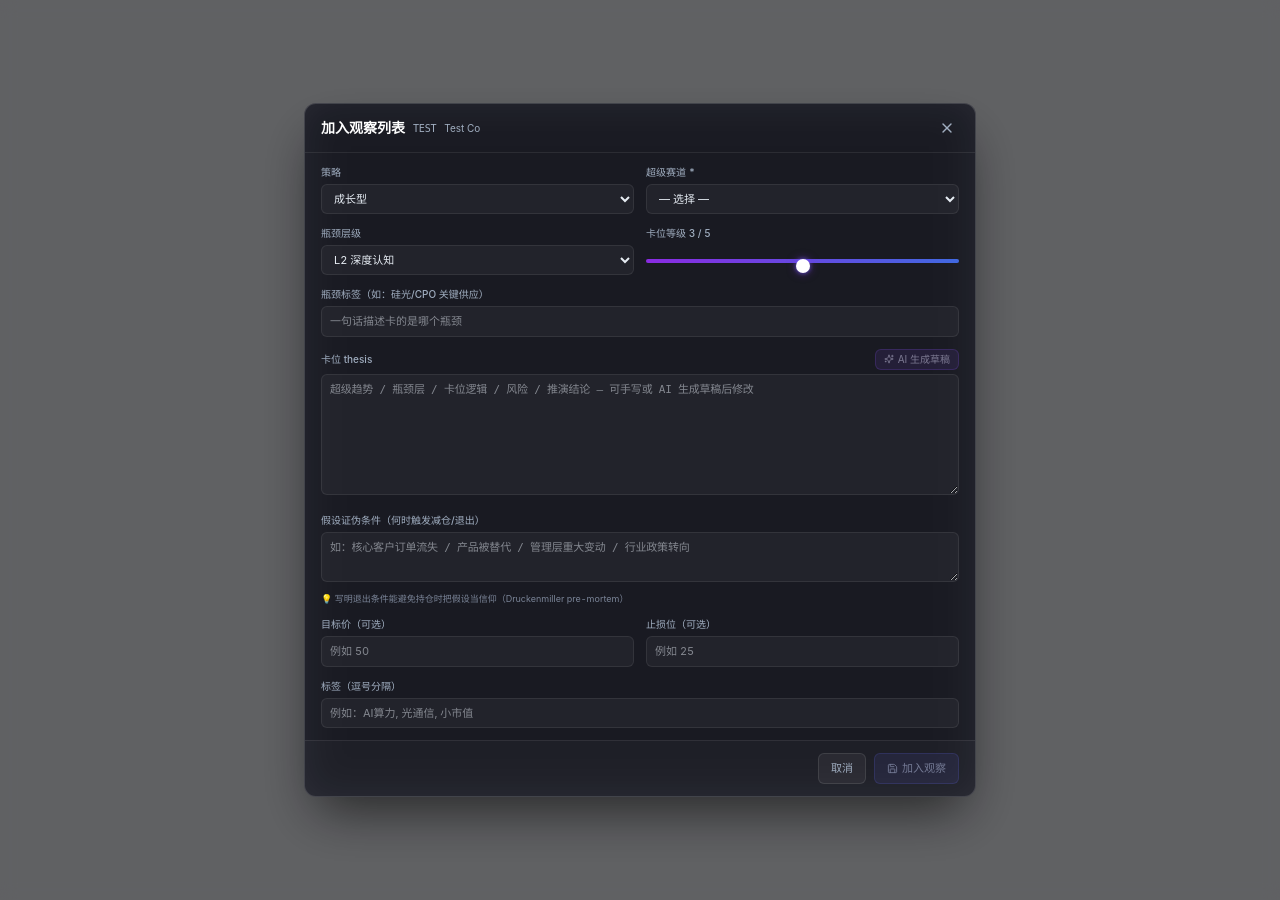
Test case: TenxItemEditor — strategy 字段标签切换 › strategy select 从 growth → value 切换时字段标签同步切换
The width and height of the screenshot is (1280, 900).
Expected: the text "瓶颈层级" is shown, [321, 226, 361, 241]
Expected: the text "估值点位" is not shown
Select "价值型" in the dropdown below "策略" at x=478, y=199, box [321, 184, 634, 214]
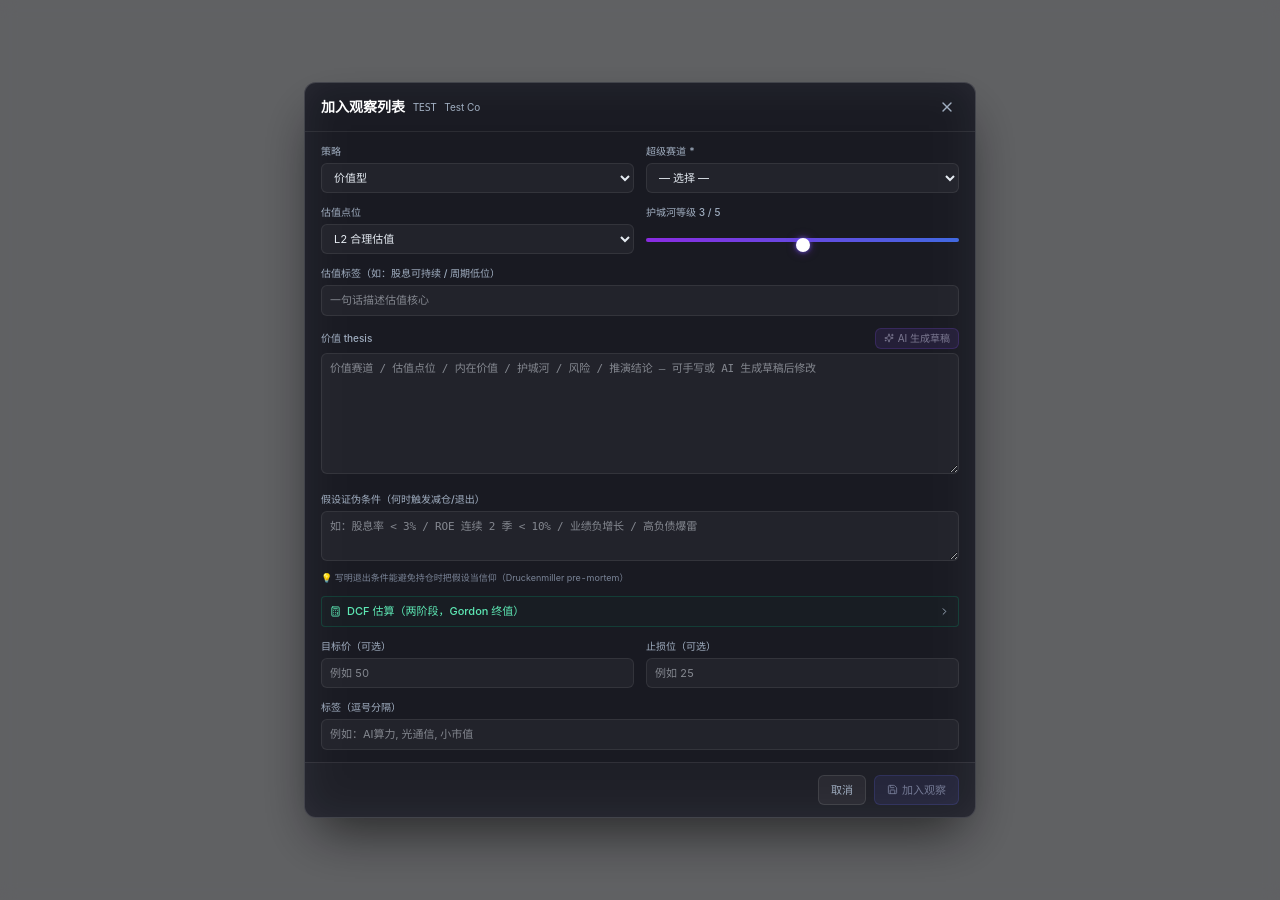
Expected: the text "瓶颈层级" is gone
Expected: the text "估值点位" is shown, [321, 205, 361, 220]
